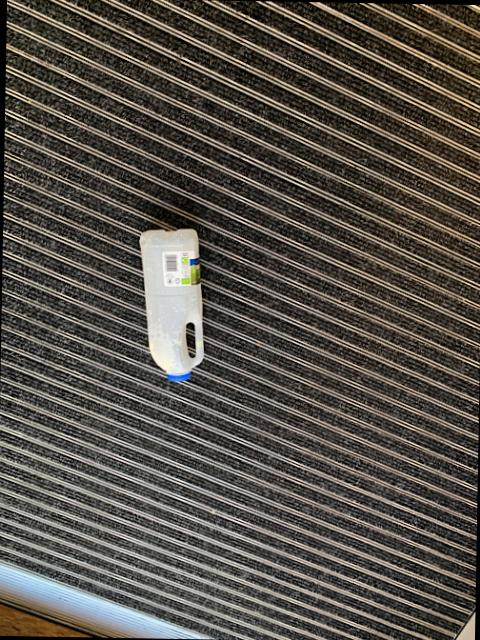plastic: (140, 230, 203, 382)
